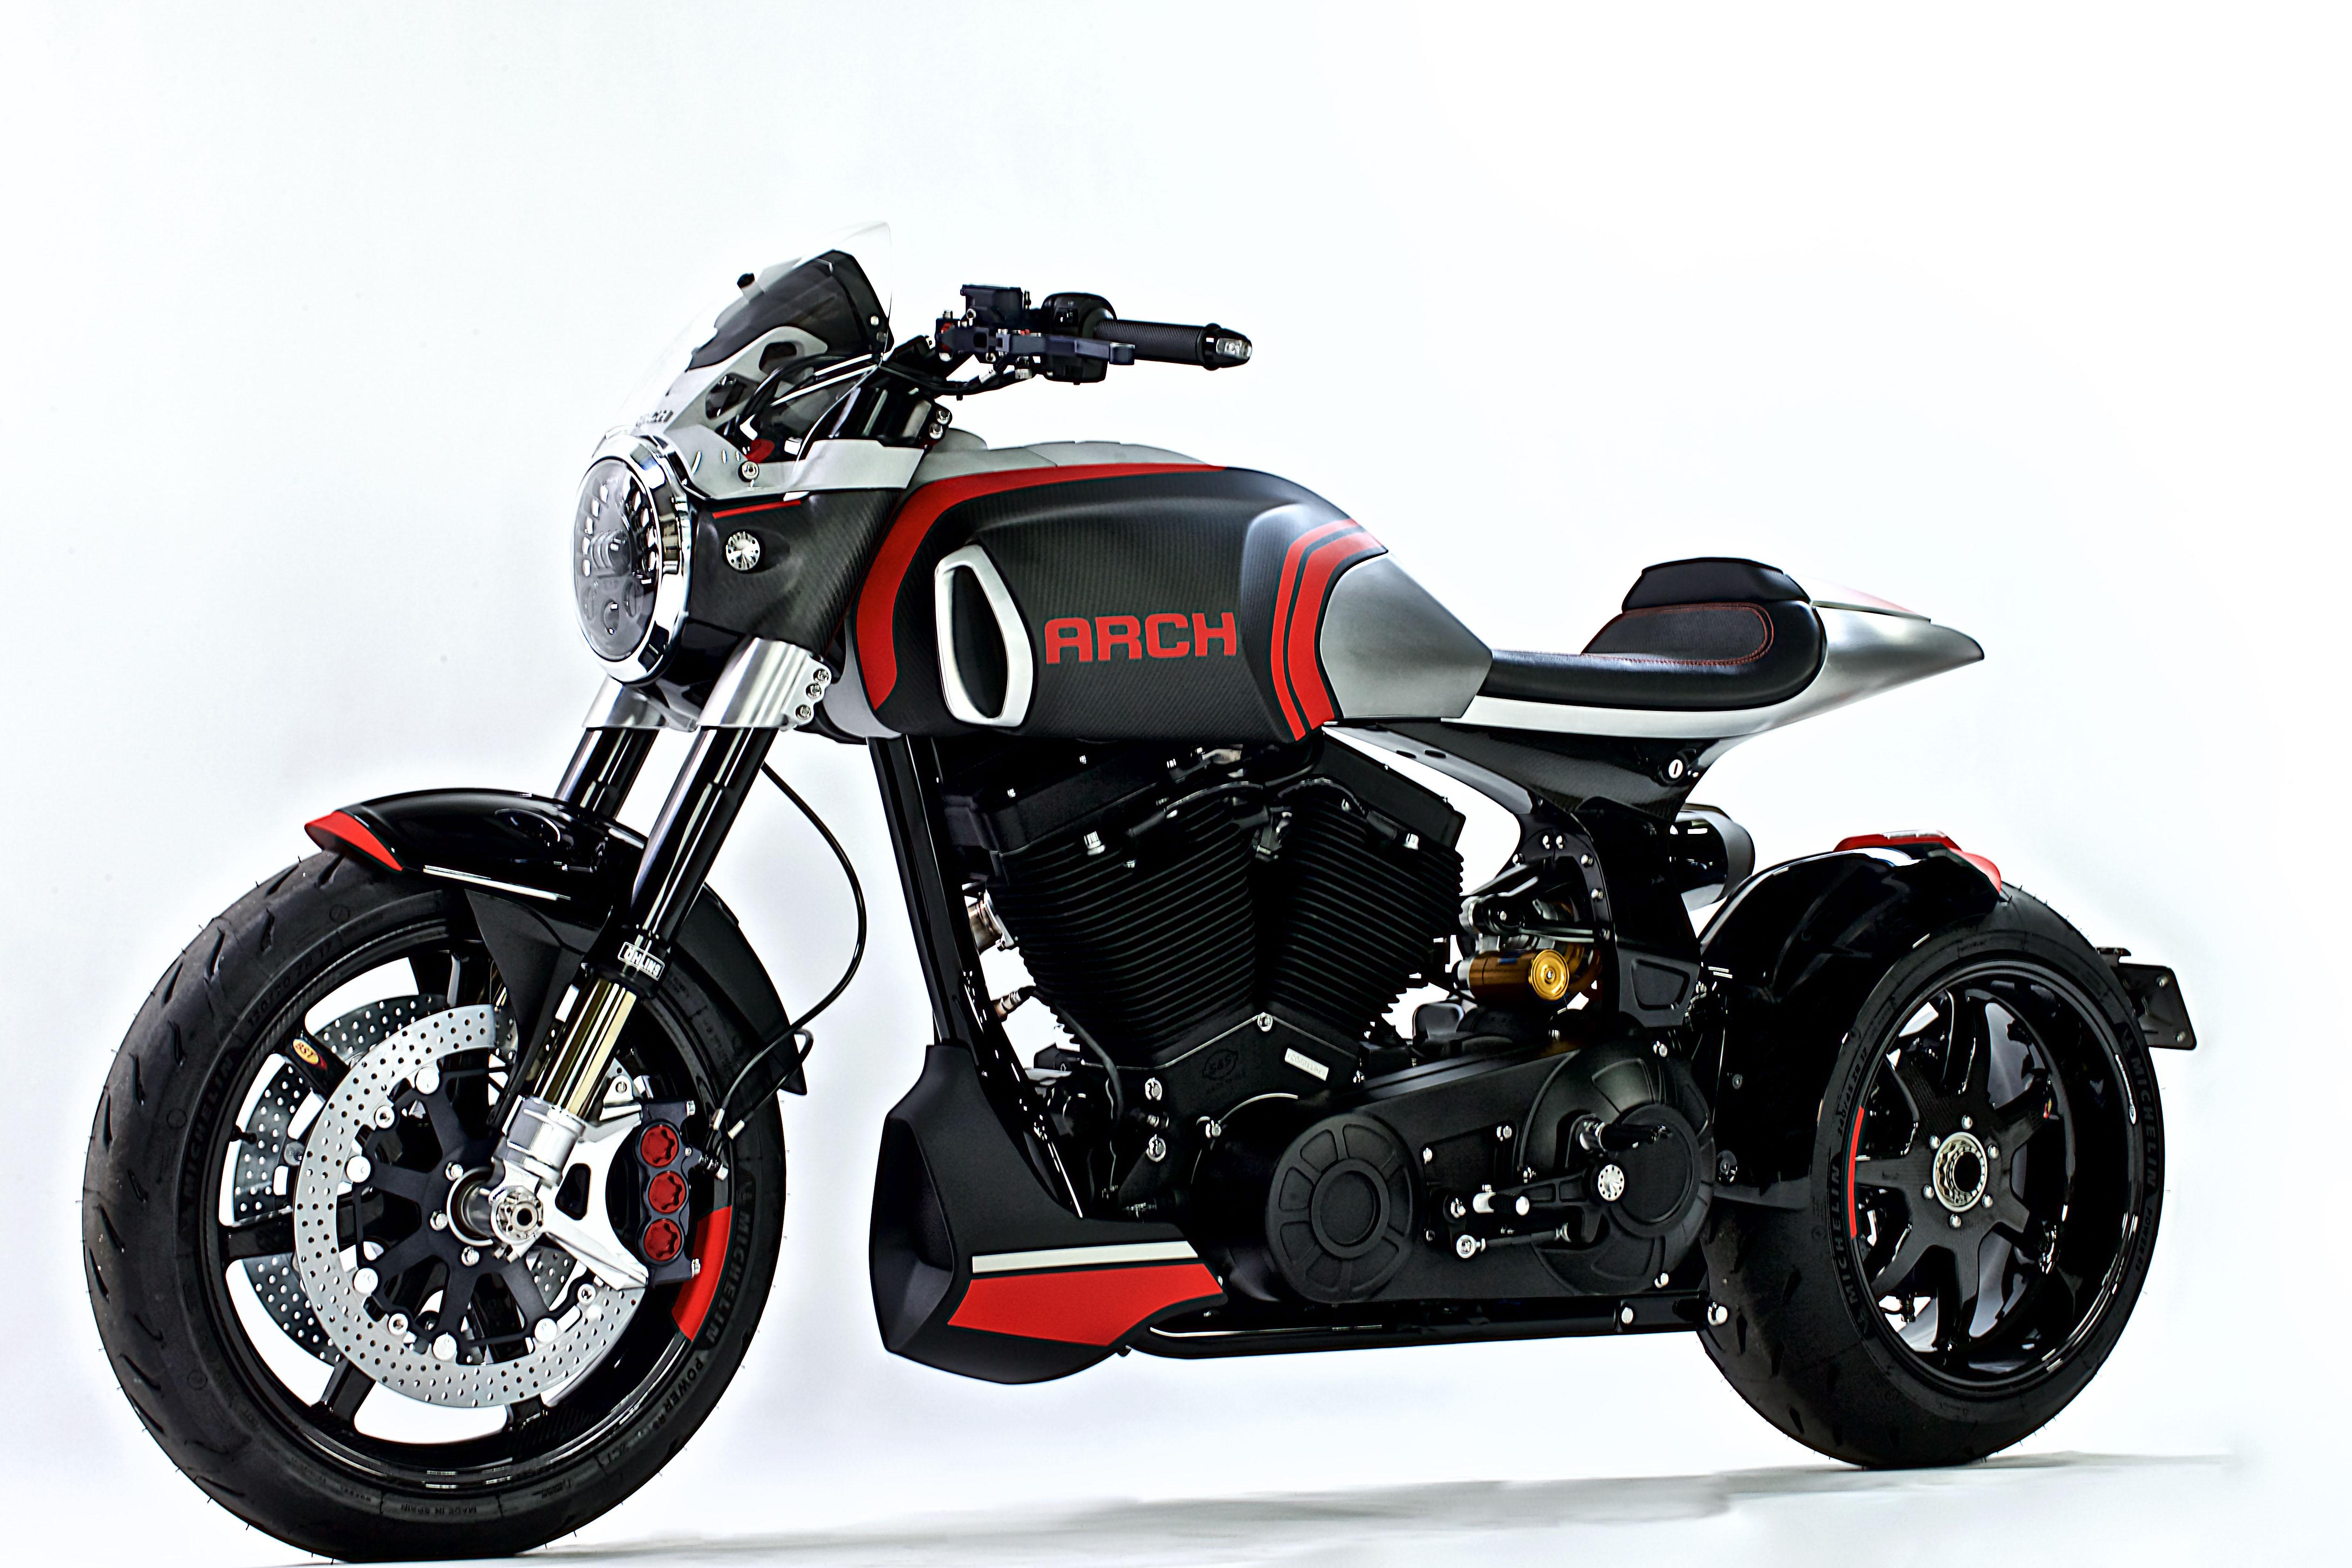Motorcycle: (40, 198, 2224, 1507)
